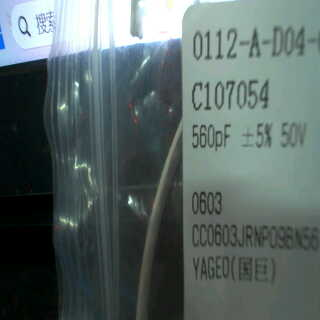560pF: (188, 119, 235, 151)
